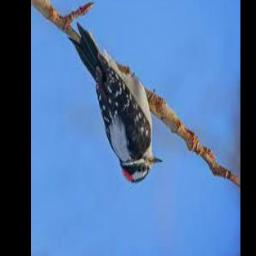Woodpecker: (69, 23, 163, 183)
